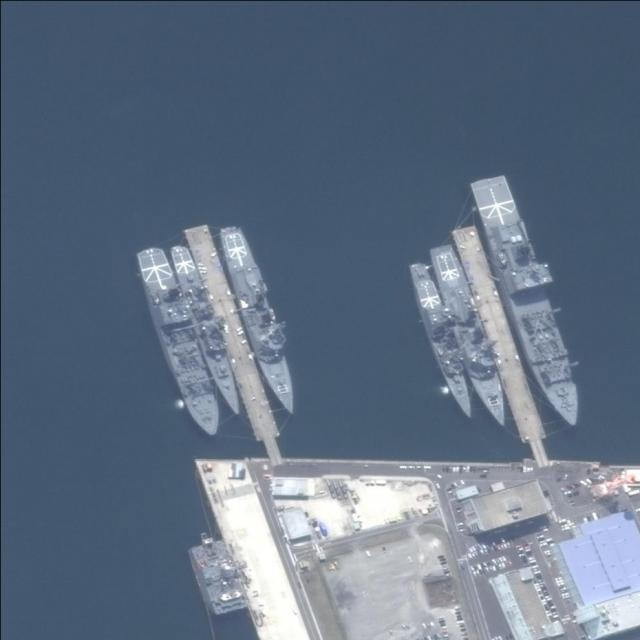Auxiliary Ships: (470, 171, 587, 433), (213, 219, 306, 418), (135, 244, 223, 440), (427, 240, 515, 433)
Destroyer: (169, 242, 246, 419), (407, 259, 478, 420)
Dock: (451, 224, 553, 470), (183, 221, 286, 463)
